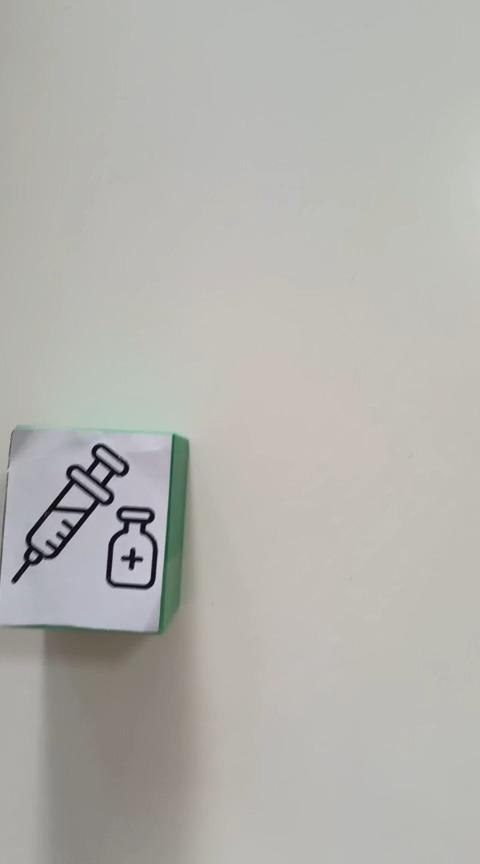antiseptic cream: (1, 424, 189, 635)
